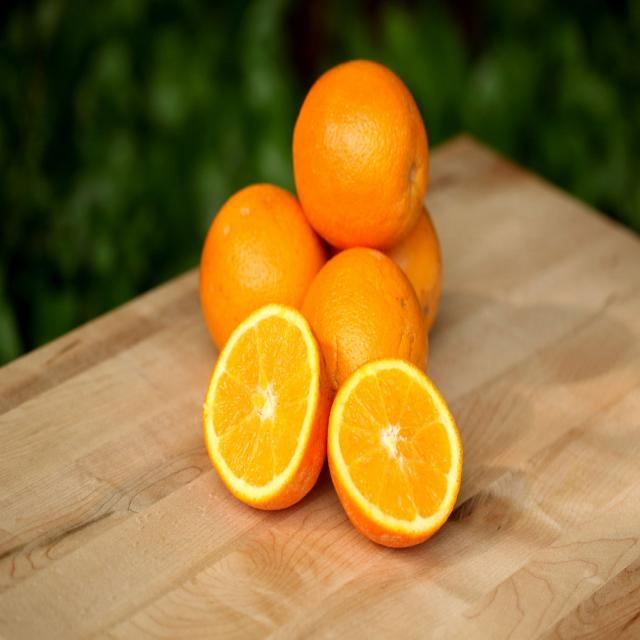orange: (323, 344, 479, 552), (288, 58, 429, 258), (192, 182, 336, 372), (206, 302, 328, 518), (296, 246, 445, 414), (347, 190, 448, 341)
